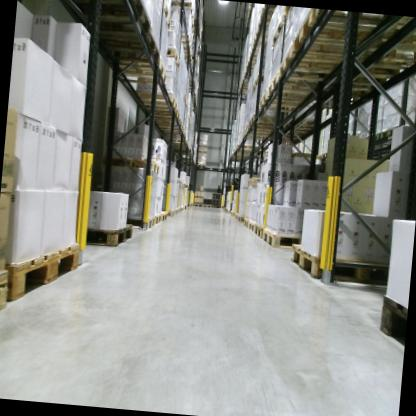pallet: (0, 237, 83, 318), (286, 241, 392, 291), (287, 10, 388, 59), (83, 18, 164, 67), (57, 0, 155, 36), (101, 49, 170, 89), (276, 46, 348, 84), (267, 69, 323, 101), (82, 220, 134, 251), (259, 87, 312, 117), (132, 86, 181, 112), (98, 155, 163, 173), (261, 227, 306, 251), (143, 103, 183, 120), (147, 112, 183, 130), (248, 114, 282, 132), (169, 0, 195, 23), (0, 270, 12, 319), (271, 16, 289, 47), (379, 125, 402, 147), (366, 131, 393, 148), (159, 0, 174, 30), (242, 130, 275, 143), (245, 125, 280, 137), (166, 47, 182, 68), (246, 175, 268, 189), (251, 75, 267, 94), (142, 216, 157, 231), (156, 210, 169, 223), (255, 222, 264, 239), (248, 221, 256, 236), (242, 216, 250, 229), (321, 150, 332, 159), (163, 209, 176, 216), (154, 213, 162, 224), (237, 214, 245, 223), (212, 204, 222, 211), (193, 202, 203, 208), (184, 93, 189, 104), (175, 175, 180, 185), (233, 212, 238, 221), (202, 204, 211, 209), (174, 208, 179, 216), (197, 164, 206, 168)
